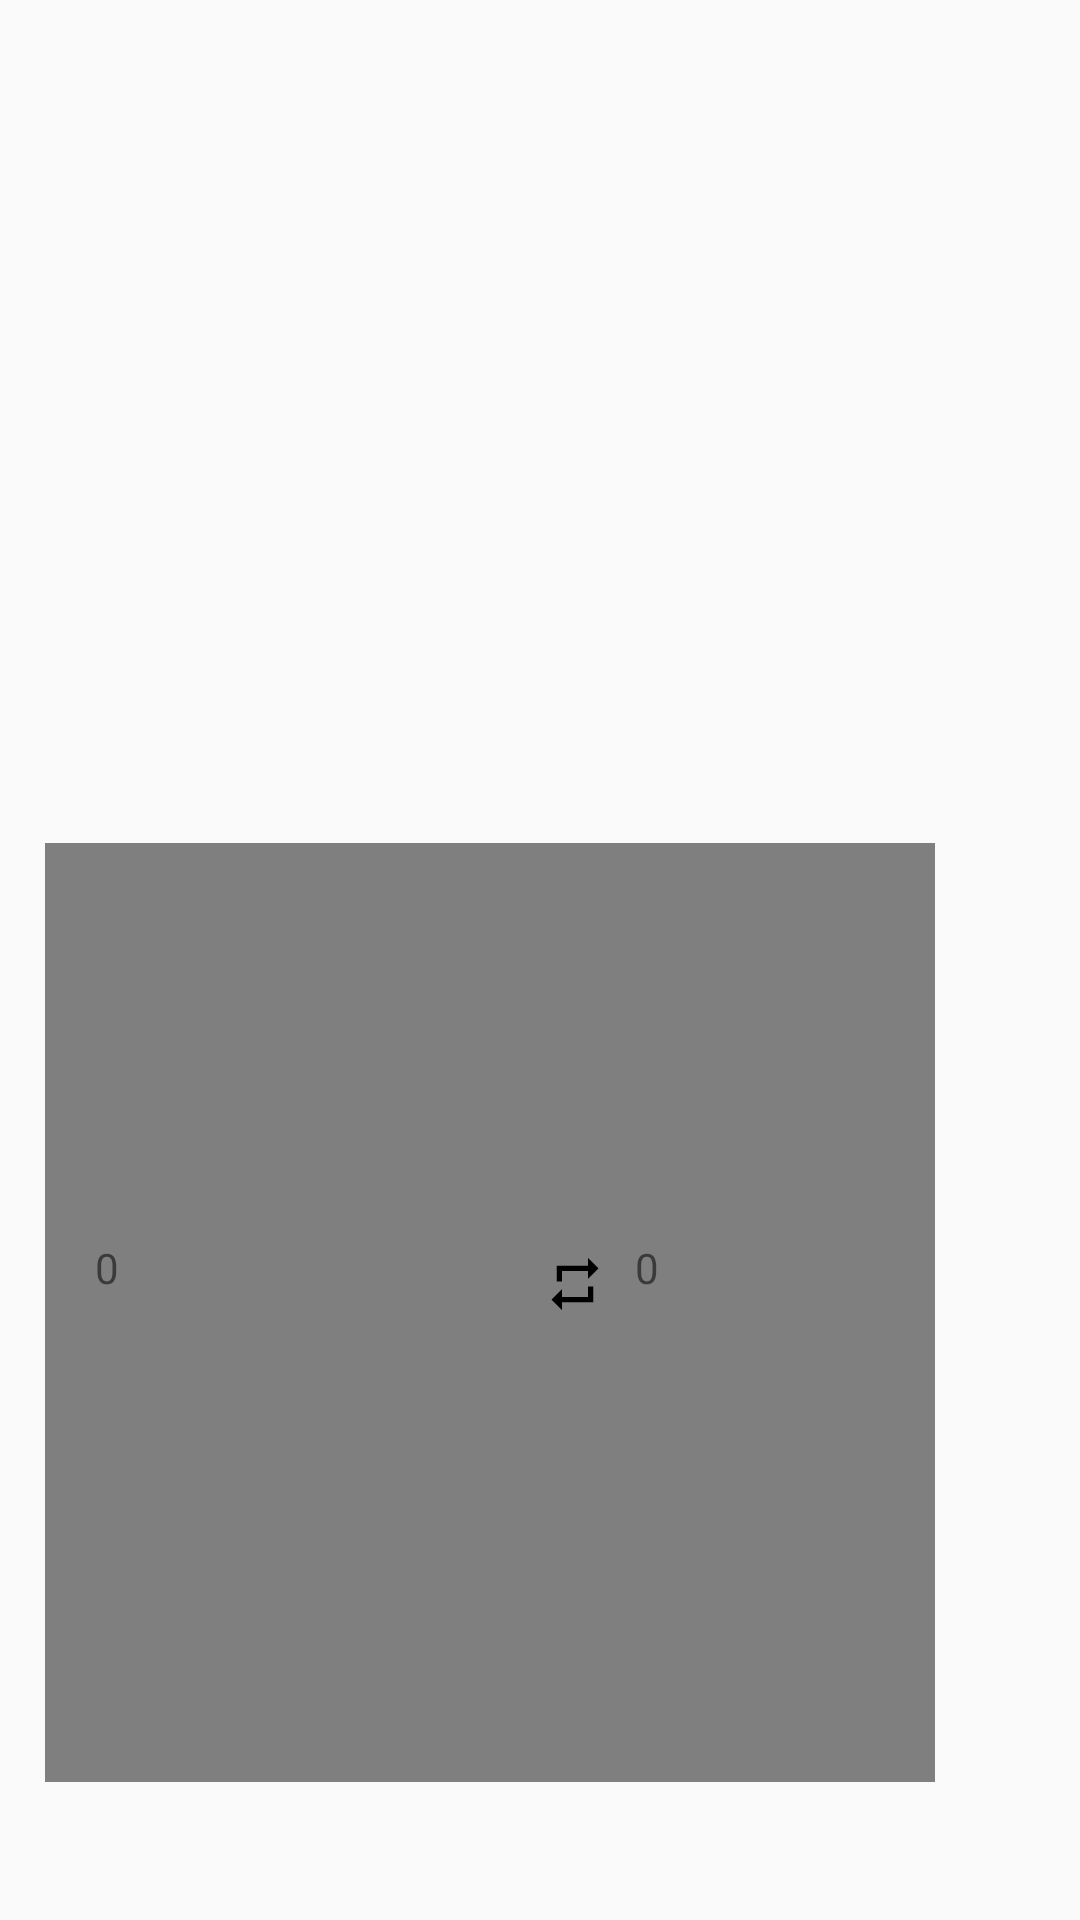

Icons on this 1080 × 1920 Android screen, each with its box as (x1, y1, x2, y2):
repost: (551, 1258, 599, 1310)
